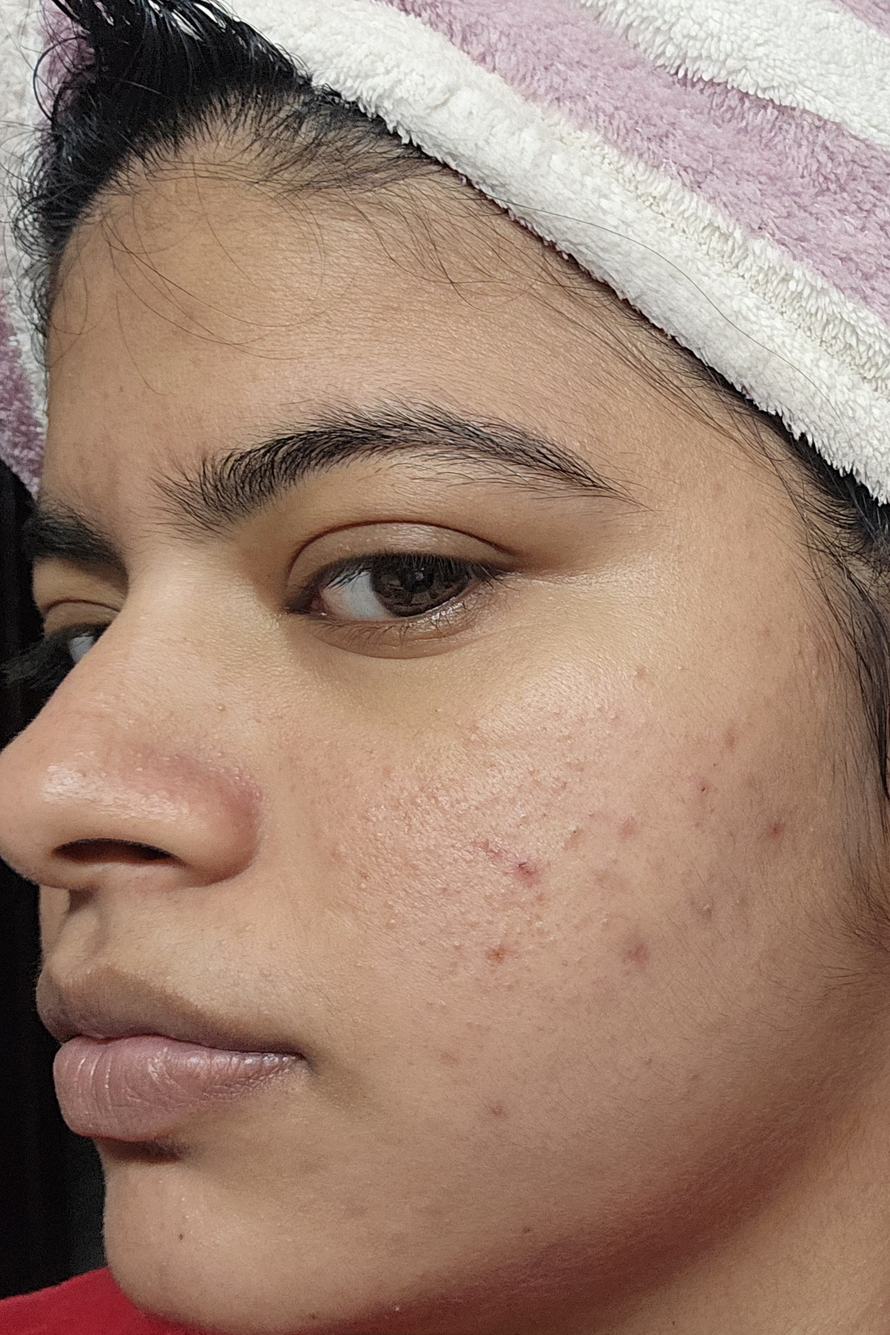papule: (500, 840, 560, 920), (606, 924, 672, 990), (619, 651, 674, 730), (696, 708, 755, 774), (731, 796, 793, 856), (595, 816, 674, 858), (474, 931, 526, 994)
